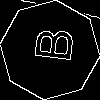B: (25, 25, 74, 63)
